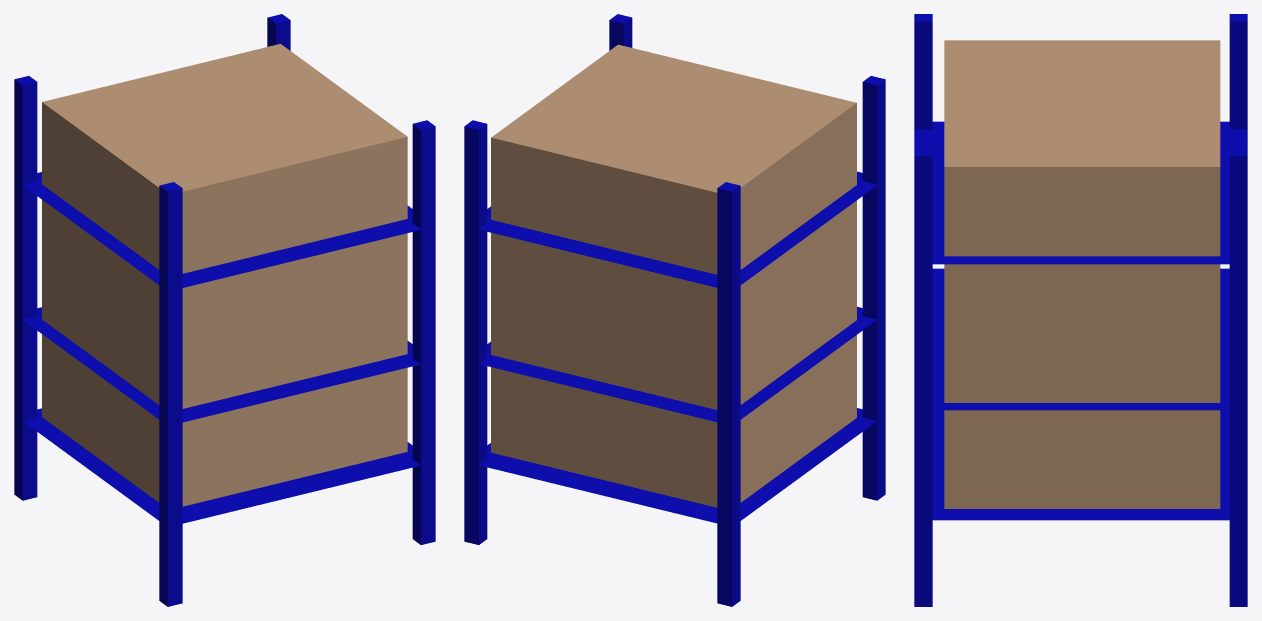
Rendered from shelf.glb.
3 views of the same model, side by side, from view 1: azimuth 30°, elevation 25°; view 2: azimuth 150°, elevation 25°; view 3: azimuth 270°, elevation 25° (orthographic). The views are drawn at different scales.
Visible parts, largest first — view 1: Obj_000029, mesh3d_025, mesh3d_018, mesh3d_037, mesh3d_019, mesh3d_006, mesh3d_012, mesh3d_028, mesh3d_040, mesh3d_022; view 2: Obj_000029, mesh3d_027, mesh3d_018, mesh3d_039, mesh3d_033, mesh3d_006, mesh3d_012, mesh3d_028, mesh3d_040, mesh3d_034; view 3: Obj_000029, mesh3d_020, mesh3d_032, mesh3d_006, mesh3d_018, mesh3d_012, mesh3d_038, mesh3d_026, mesh3d_005.
Boxes of the visible parts, x1,y1,x2,y2 form: Obj_000029: (42,44,407,506); mesh3d_025: (167,188,182,606); mesh3d_018: (23,408,420,523); mesh3d_037: (22,82,37,500); mesh3d_019: (421,126,435,544); mesh3d_006: (23,172,420,286); mesh3d_012: (23,307,420,422); mesh3d_028: (159,186,167,606); mesh3d_040: (14,79,22,500); mesh3d_022: (412,124,420,544); Obj_000029: (491,44,856,507); mesh3d_027: (862,82,877,500); mesh3d_018: (479,408,876,523); mesh3d_039: (717,188,731,606); mesh3d_033: (464,126,478,544); mesh3d_006: (479,171,876,286); mesh3d_012: (479,306,876,421); mesh3d_028: (877,79,885,500); mesh3d_040: (732,186,740,606); mesh3d_034: (479,124,487,544); Obj_000029: (944,40,1220,508); mesh3d_020: (914,156,932,606); mesh3d_032: (1229,156,1247,606); mesh3d_006: (914,121,1247,263); mesh3d_018: (932,410,1229,520); mesh3d_012: (932,268,1229,410); mesh3d_038: (1229,21,1247,147); mesh3d_026: (914,21,932,129); mesh3d_005: (933,263,1229,264).
Size of the model in its own units: 1.2 by 1.77 by 1.19.
